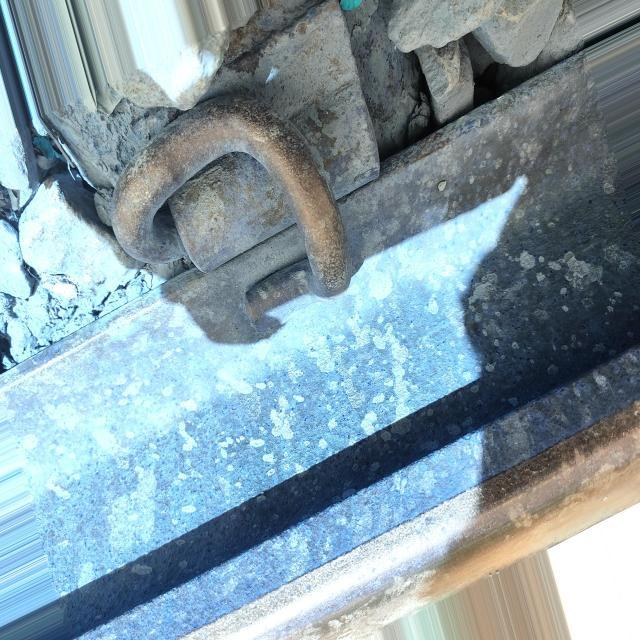Good Fasteners: (113, 0, 380, 330)
